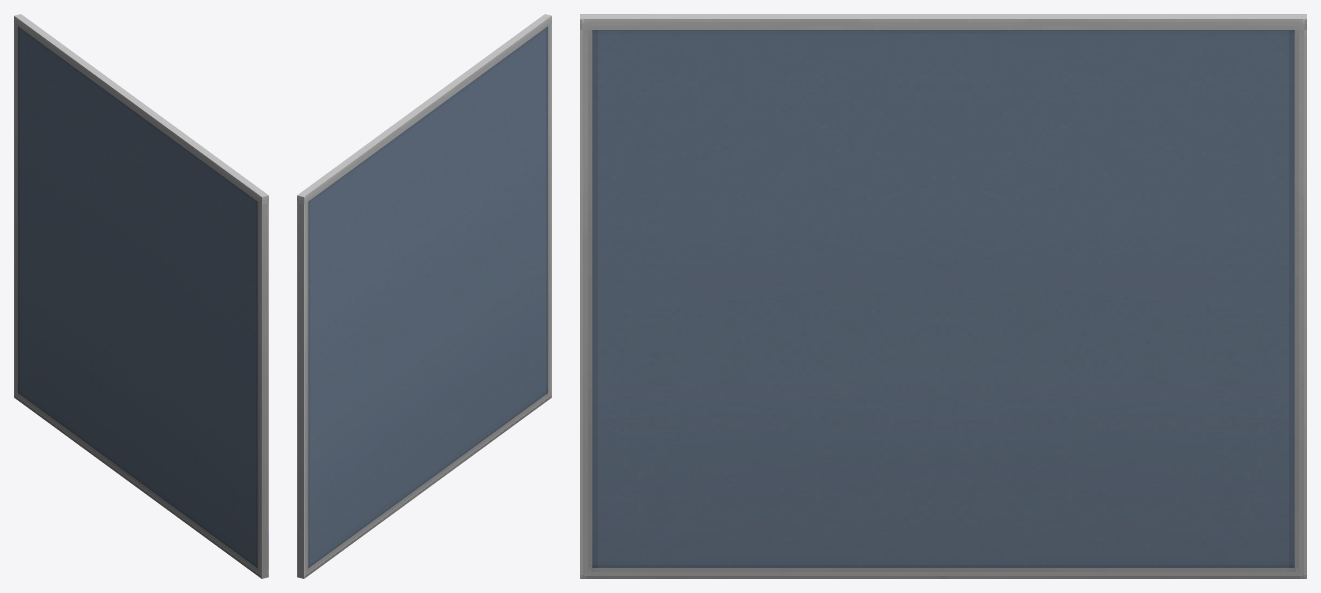
Rendered from DividerSmall.glb.
3 views of the same model, side by side, from view 1: azimuth 30°, elevation 25°; view 2: azimuth 150°, elevation 25°; view 3: azimuth 270°, elevation 25° (orthographic). The views are drawn at different scales.
Visible parts, largest first — view 1: divider-small; view 2: divider-small; view 3: divider-small.
Boxes of the visible parts, bbox=[...] form: divider-small: bbox=[14, 14, 268, 578]; divider-small: bbox=[297, 14, 551, 578]; divider-small: bbox=[580, 14, 1306, 578].
Size of the model in its own units: 0.02 by 1.02 by 1.2.
1 material, 1 textured.
